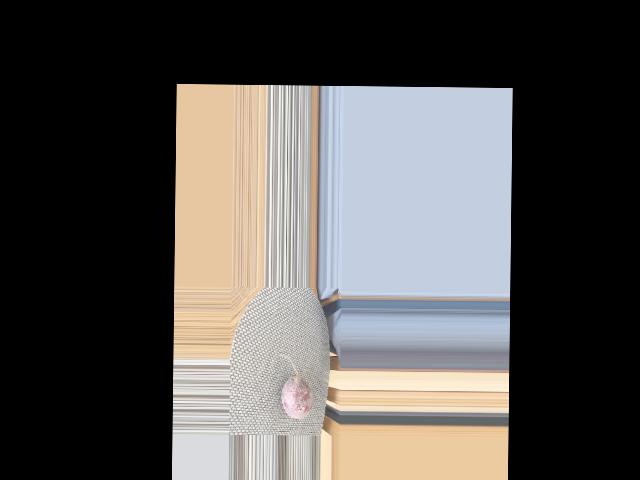beet: (277, 354, 314, 418)
